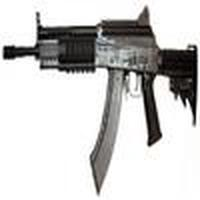gun: (4, 16, 200, 134)
